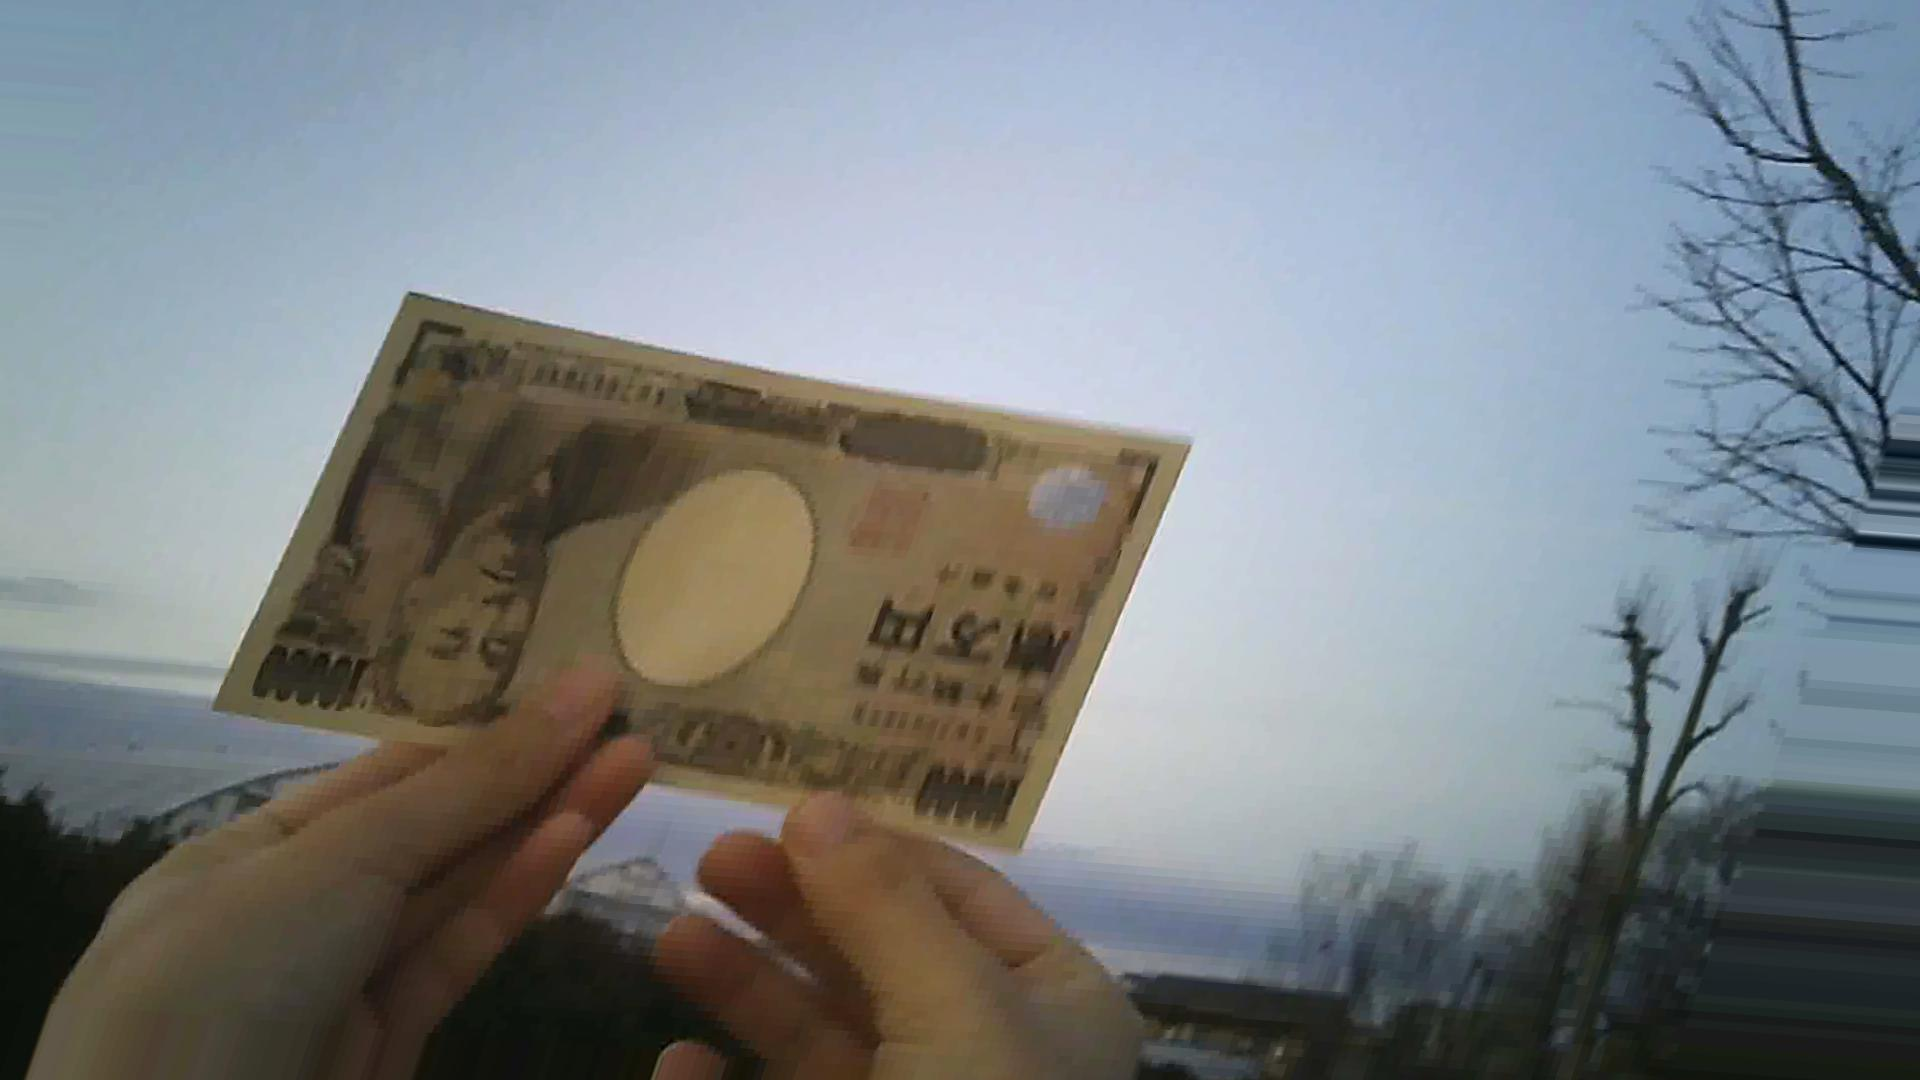10,000 Yen: (185, 276, 1179, 870)
